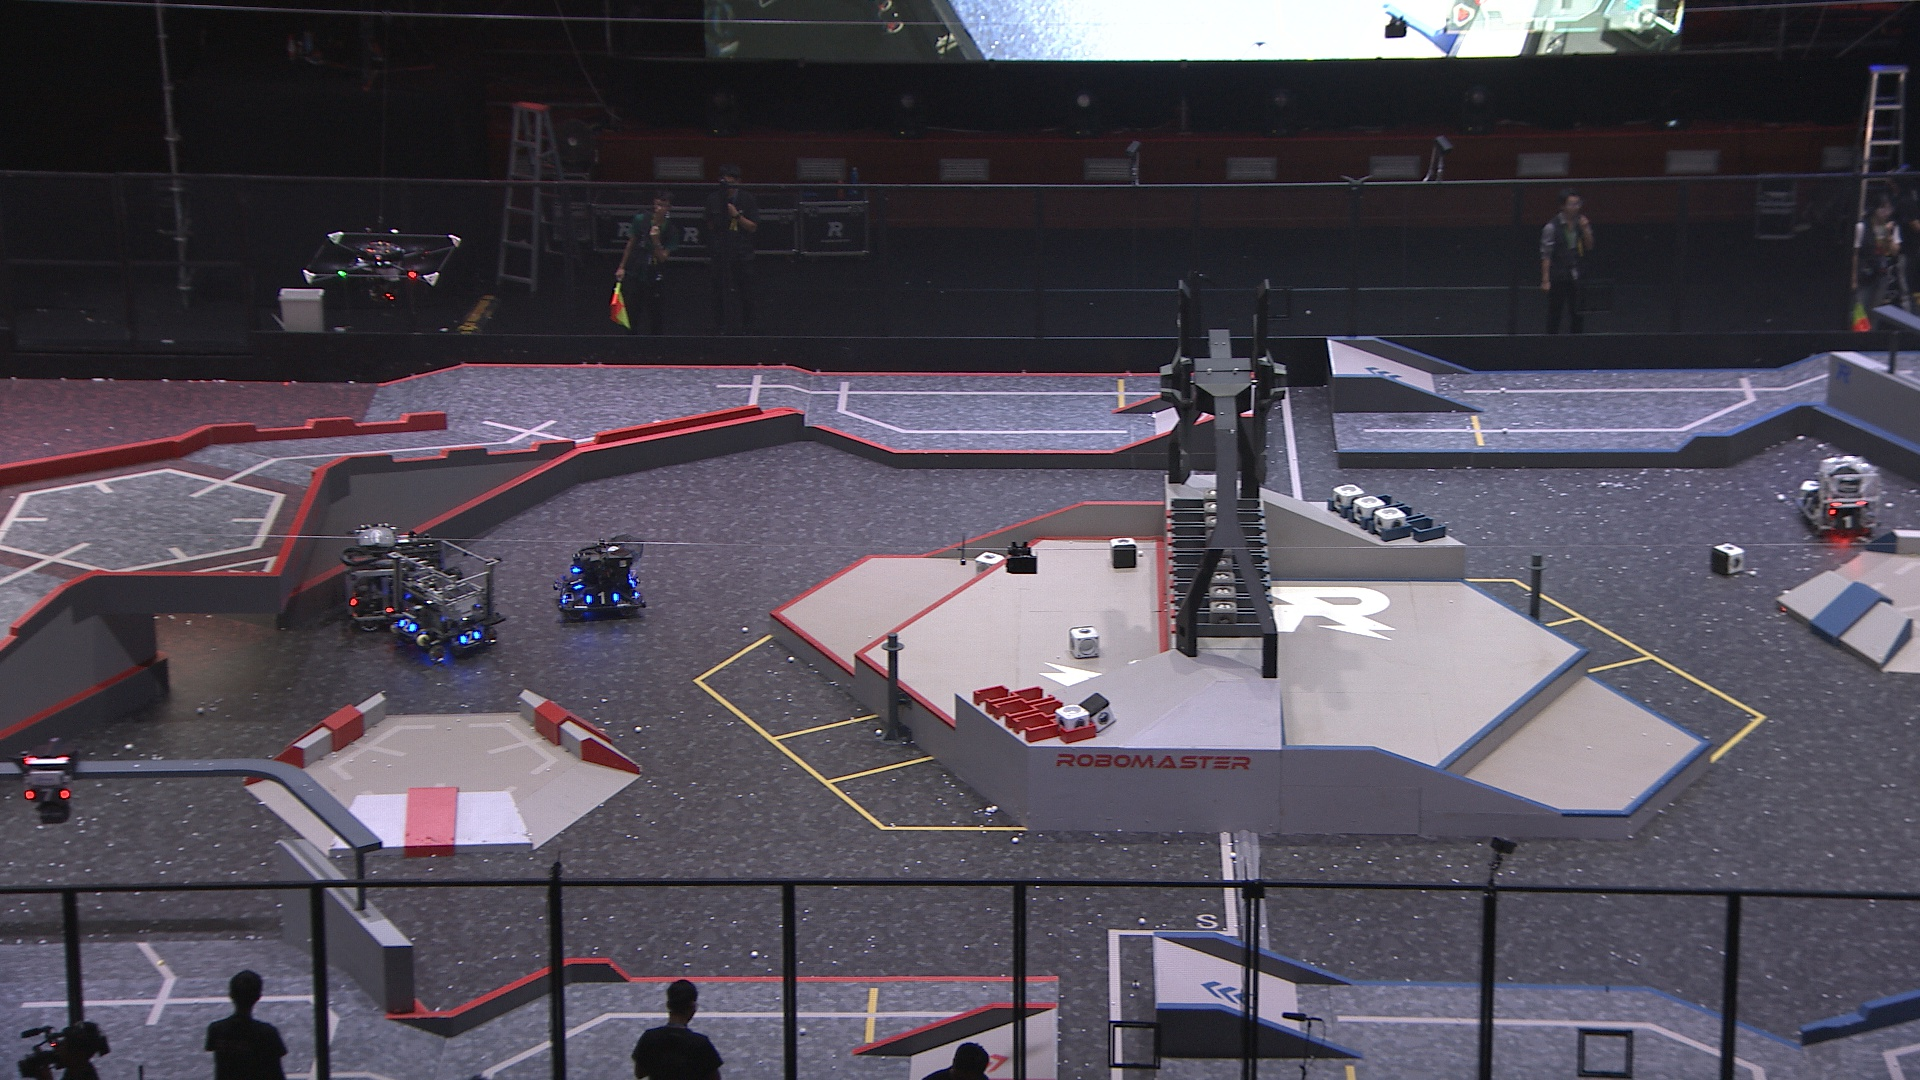armor: (21, 789, 74, 804), (583, 589, 618, 608), (456, 628, 483, 646), (1836, 512, 1859, 531), (396, 617, 419, 636), (1801, 493, 1817, 513), (567, 574, 584, 589)
car: (389, 537, 504, 665), (338, 524, 442, 633), (553, 534, 646, 621), (1793, 458, 1882, 537)
watcher: (13, 742, 80, 825)
